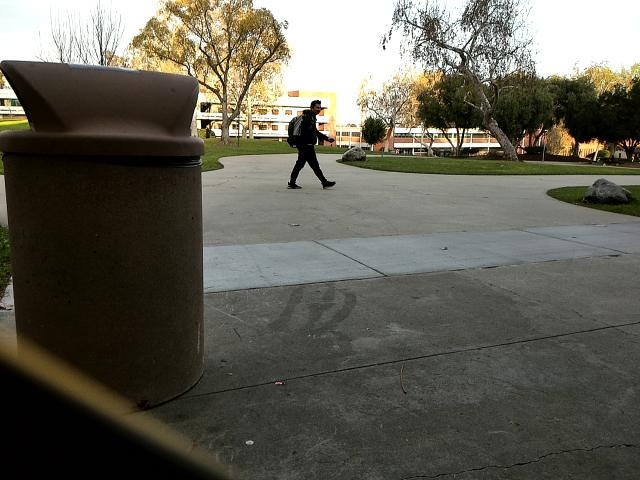trashcan: (1, 56, 211, 414)
